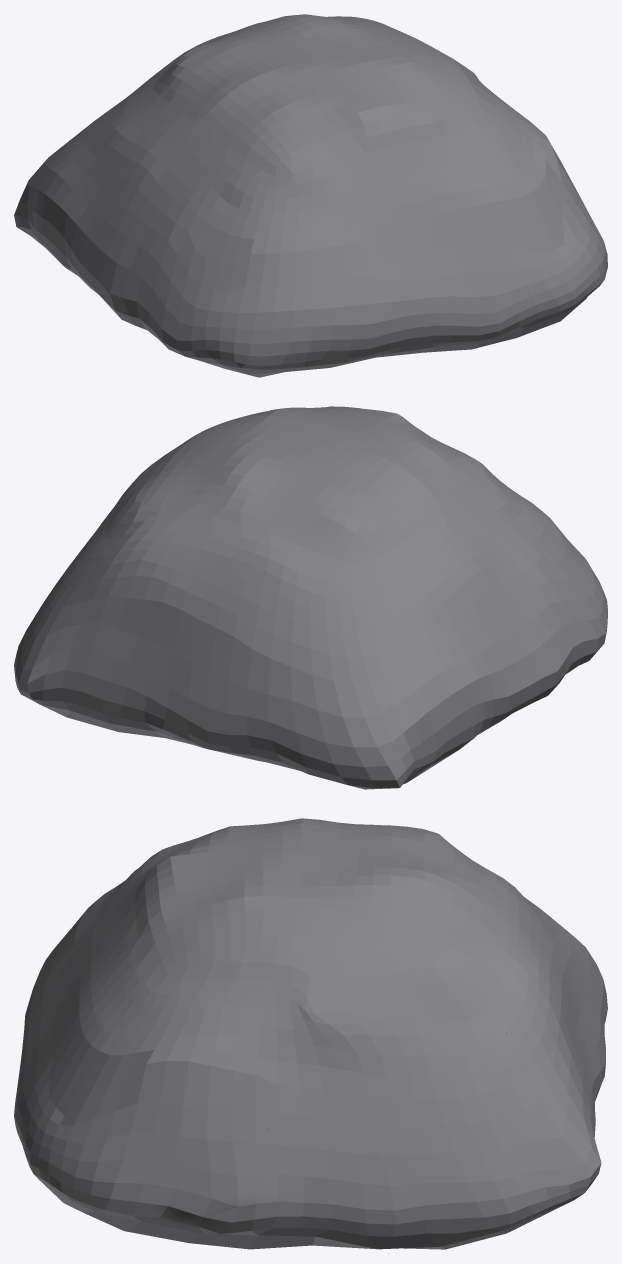
Rendered from stoneLayer.glb.
3 renders of one model, top to bottom at view 1: azimuth 30°, elevation 25°; view 2: azimuth 150°, elevation 25°; view 3: azimuth 270°, elevation 25°, orthographic. The views are drawn at different scales.
Visible parts, largest first — view 1: Grid; view 2: Grid; view 3: Grid.
Boxes of the visible parts, box(x1,y1,x2,y2) form: Grid: box(14, 14, 607, 377); Grid: box(14, 406, 607, 789); Grid: box(14, 818, 607, 1249).
Size of the model in its own units: 9.7 by 5.54 by 9.39.
Materials: 1 (1 with a texture image).
